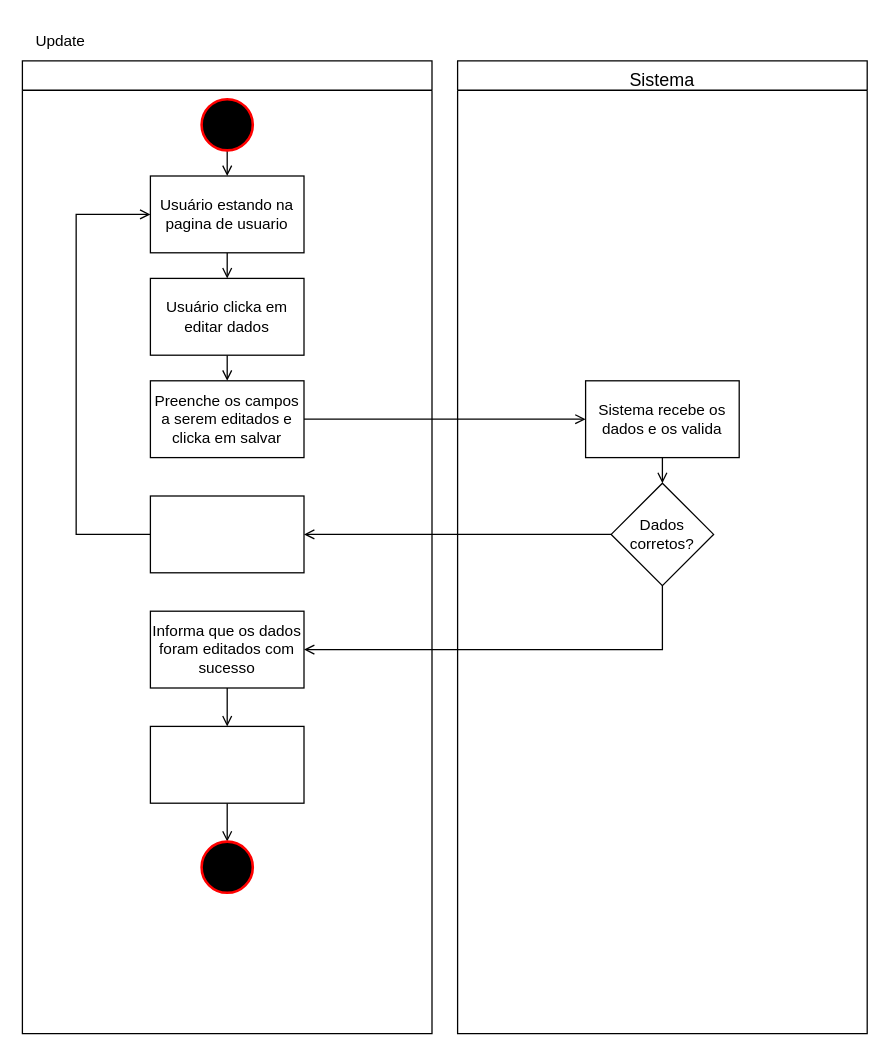
This 890x1056 diagram has some shape labels left out. The shapes that lost their labels are listed below. From the top down, each one's box as (x1, y1, x2, y2) in pixels, then its label:
(149, 495, 304, 573): Informa que os campos preenchidos possuem erros
(21, 60, 432, 1034): Costumer
(149, 725, 304, 803): Redireciona a pagina de cliente
